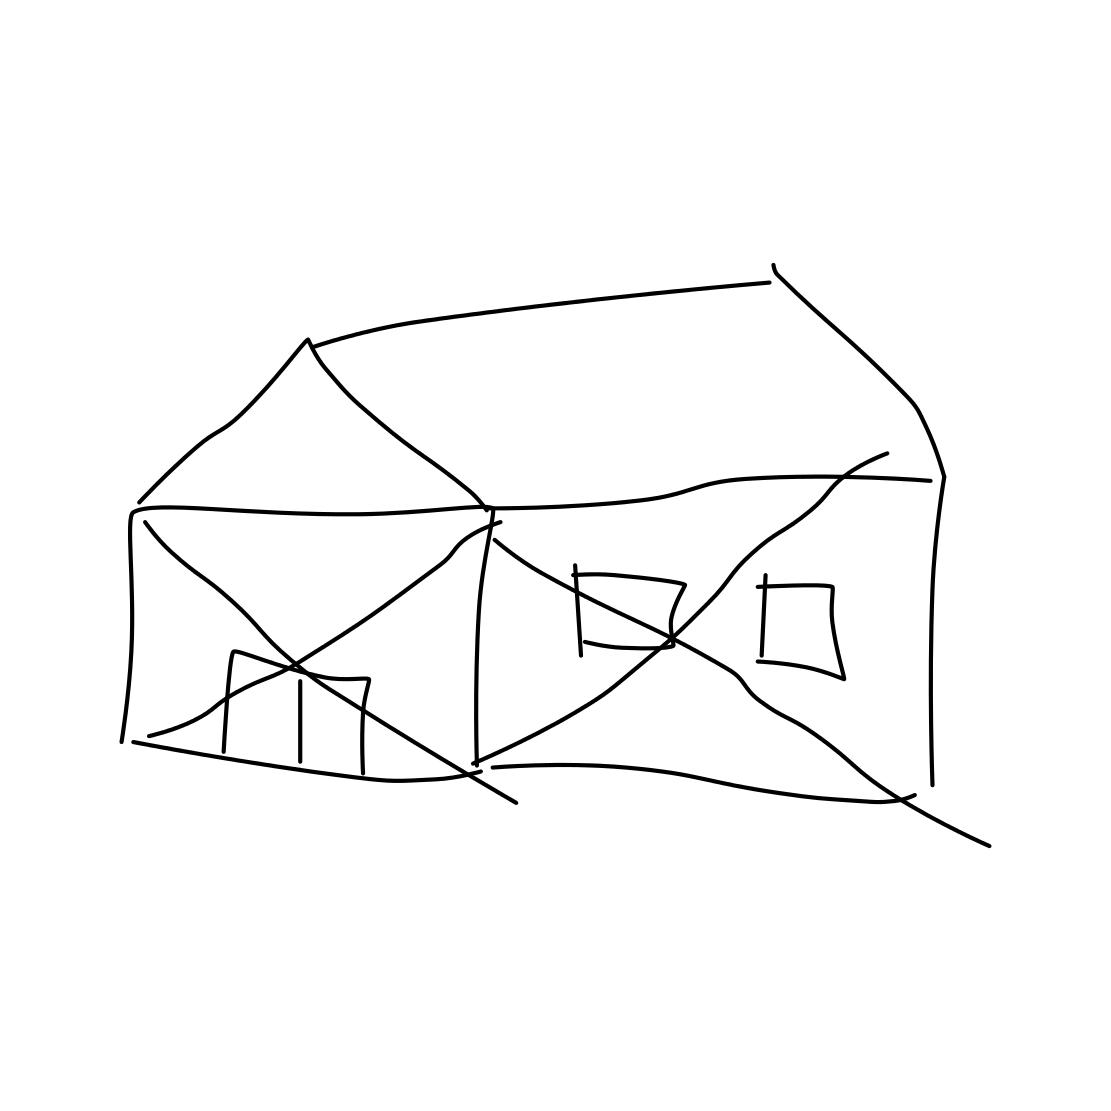House: (90, 250, 999, 857)
